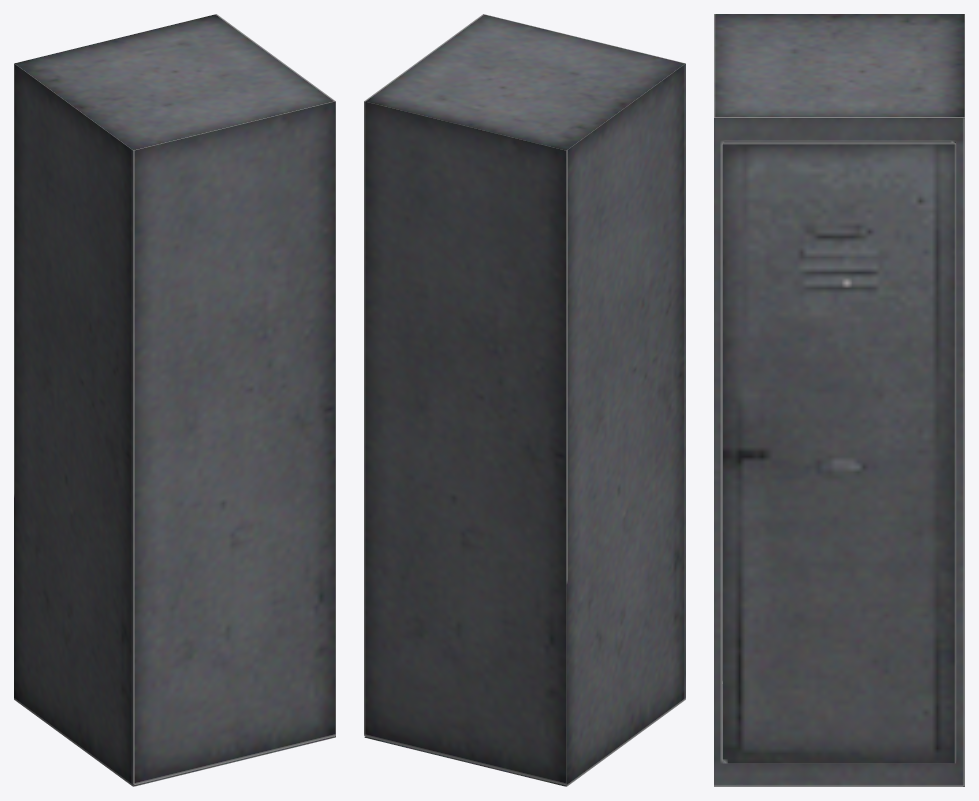
Rendered from single lockers.fbx.
The picture shows the model from 3 angles, left to right: view 1: azimuth 30°, elevation 25°; view 2: azimuth 150°, elevation 25°; view 3: azimuth 270°, elevation 25°; orthographic projection. The views are drawn at different scales.
Parts seen in each view (by area): view 1: Lockers; view 2: Lockers; view 3: Lockers Door, Lockers.
Part boxes in pixels (x1,y1,x2,y2): Lockers: (14,14,335,786); Lockers: (364,14,685,786); Lockers Door: (723,141,955,763); Lockers: (714,14,964,786).
Size of the model in its own units: 100 by 300 by 102.
